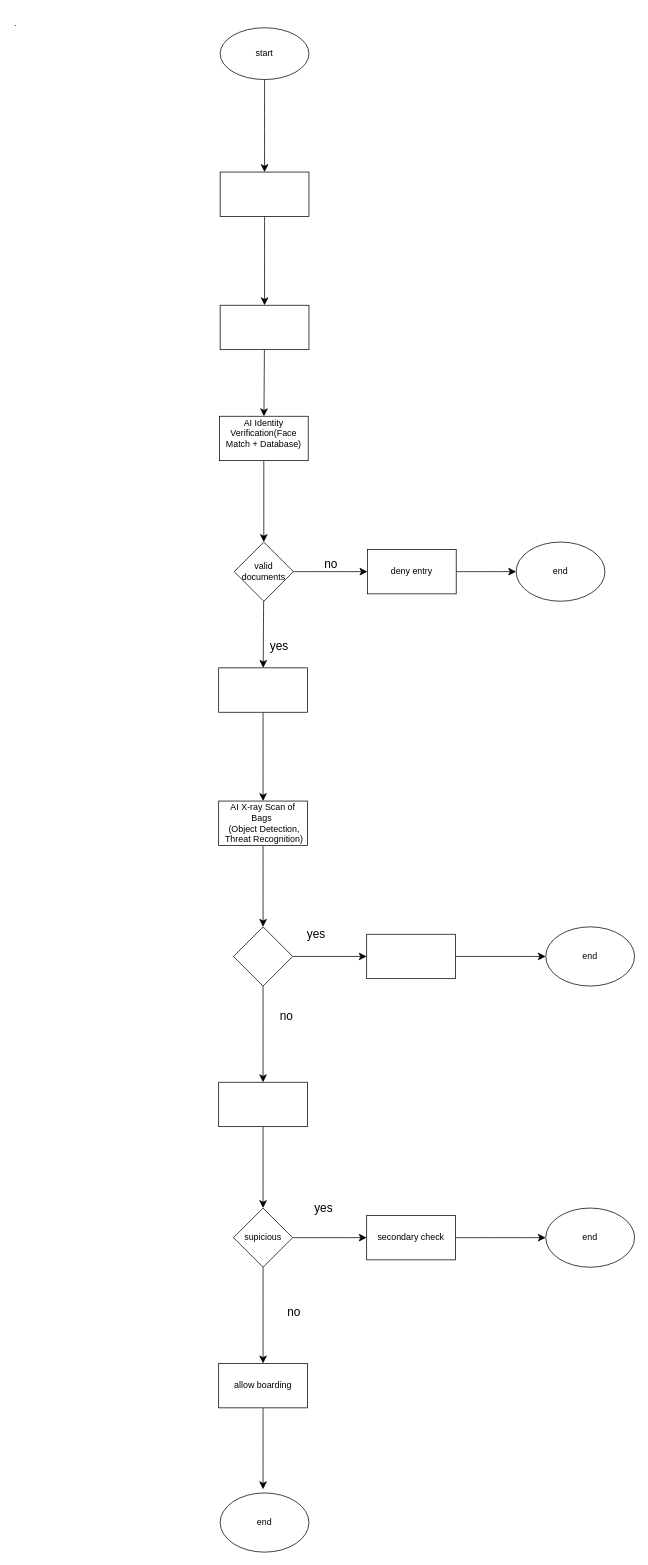
This 648x1565 diagram has some shape labels left out. Each missing label, with the centre of its shape:
passenger arrives at airport: point (264, 193)
passengerBody Scan (AI Millimeter-Wave Threat Detection): point (262, 1104)
Place Bags in Trays (AI Auto-Sorting + Tray Tracking): point (262, 689)
Scan Boarding Pass (OCR + QR Recognition): point (264, 327)
security check: point (410, 956)
threat detected: point (263, 956)
